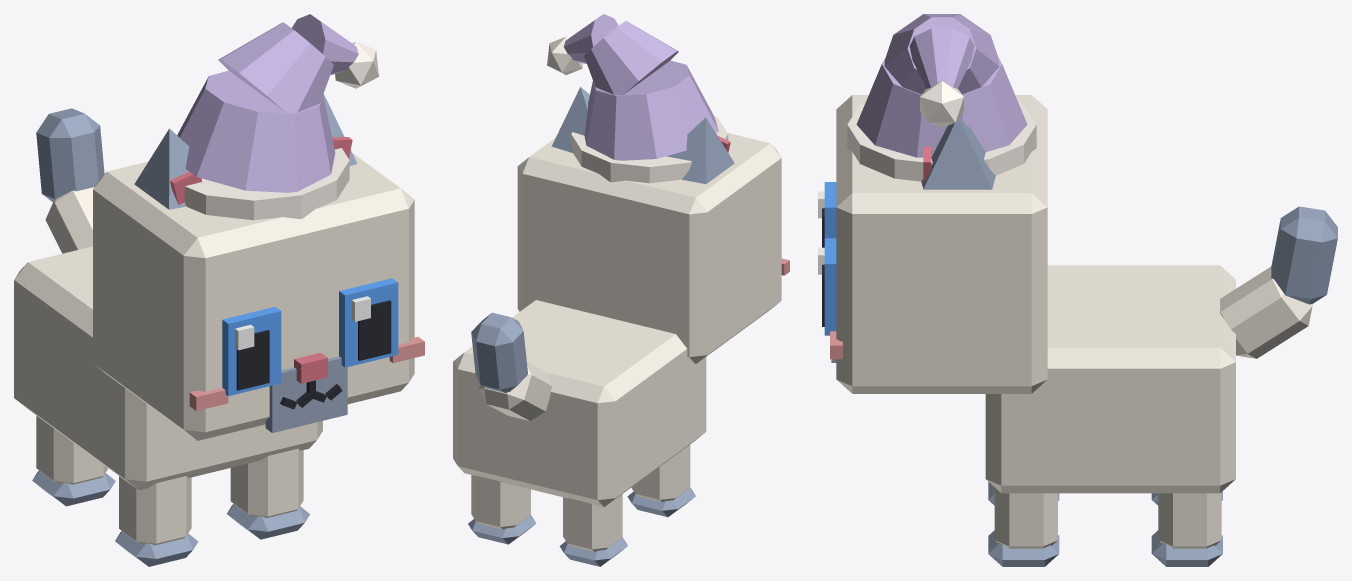
The model's file is CatCafe_Cat_Ragdoll.glb.
3 views of the same model, side by side, from view 1: azimuth 30°, elevation 25°; view 2: azimuth 150°, elevation 25°; view 3: azimuth 270°, elevation 25° (orthographic). The views are drawn at different scales.
Parts seen in each view (by area): view 1: CatCafe_Cat_Ragdoll_Head, CatCafe_Cat_Ragdoll_Prop, CatCafe_Cat_Ragdoll_Body, CatCafe_Cat_Ragdoll_Tail, CatCafe_Cat_Ragdoll_LegF2, CatCafe_Cat_Ragdoll_LegF1, CatCafe_Cat_Ragdoll_Eye1, CatCafe_Cat_Ragdoll_Eye2, CatCafe_Cat_Ragdoll_LegB2, CatCafe_Cat_Ragdoll_EarR, CatCafe_Cat_Ragdoll_EarL; view 2: CatCafe_Cat_Ragdoll_Head, CatCafe_Cat_Ragdoll_Body, CatCafe_Cat_Ragdoll_Prop, CatCafe_Cat_Ragdoll_Tail, CatCafe_Cat_Ragdoll_LegB2, CatCafe_Cat_Ragdoll_LegB1, CatCafe_Cat_Ragdoll_LegF2, CatCafe_Cat_Ragdoll_EarR, CatCafe_Cat_Ragdoll_EarL; view 3: CatCafe_Cat_Ragdoll_Body, CatCafe_Cat_Ragdoll_Head, CatCafe_Cat_Ragdoll_Prop, CatCafe_Cat_Ragdoll_Tail, CatCafe_Cat_Ragdoll_LegF1, CatCafe_Cat_Ragdoll_LegB1, CatCafe_Cat_Ragdoll_EarL, CatCafe_Cat_Ragdoll_Eye1, CatCafe_Cat_Ragdoll_Eye2.
Boxes of the visible parts, bbox=[...] form: CatCafe_Cat_Ragdoll_Head: bbox=[93, 153, 424, 440]; CatCafe_Cat_Ragdoll_Prop: bbox=[177, 14, 378, 220]; CatCafe_Cat_Ragdoll_Body: bbox=[14, 246, 322, 490]; CatCafe_Cat_Ragdoll_Tail: bbox=[36, 108, 104, 253]; CatCafe_Cat_Ragdoll_LegF2: bbox=[115, 476, 198, 566]; CatCafe_Cat_Ragdoll_LegF1: bbox=[227, 448, 310, 539]; CatCafe_Cat_Ragdoll_Eye1: bbox=[339, 278, 398, 367]; CatCafe_Cat_Ragdoll_Eye2: bbox=[222, 306, 281, 396]; CatCafe_Cat_Ragdoll_LegB2: bbox=[32, 415, 115, 506]; CatCafe_Cat_Ragdoll_EarR: bbox=[134, 128, 201, 209]; CatCafe_Cat_Ragdoll_EarL: bbox=[323, 93, 357, 165]; CatCafe_Cat_Ragdoll_Head: bbox=[517, 133, 789, 364]; CatCafe_Cat_Ragdoll_Body: bbox=[453, 300, 706, 506]; CatCafe_Cat_Ragdoll_Prop: bbox=[547, 14, 728, 183]; CatCafe_Cat_Ragdoll_Tail: bbox=[471, 312, 552, 420]; CatCafe_Cat_Ragdoll_LegB2: bbox=[559, 494, 627, 566]; CatCafe_Cat_Ragdoll_LegB1: bbox=[468, 475, 536, 544]; CatCafe_Cat_Ragdoll_LegF2: bbox=[627, 444, 695, 517]; CatCafe_Cat_Ragdoll_EarR: bbox=[666, 117, 734, 183]; CatCafe_Cat_Ragdoll_EarL: bbox=[551, 87, 589, 152]; CatCafe_Cat_Ragdoll_Body: bbox=[985, 265, 1235, 493]; CatCafe_Cat_Ragdoll_Head: bbox=[830, 95, 1047, 393]; CatCafe_Cat_Ragdoll_Prop: bbox=[847, 14, 1036, 181]; CatCafe_Cat_Ragdoll_Tail: bbox=[1220, 206, 1337, 358]; CatCafe_Cat_Ragdoll_LegF1: bbox=[988, 487, 1059, 566]; CatCafe_Cat_Ragdoll_LegB1: bbox=[1151, 492, 1222, 566]; CatCafe_Cat_Ragdoll_EarL: bbox=[921, 118, 995, 189]; CatCafe_Cat_Ragdoll_Eye1: bbox=[818, 238, 836, 335]; CatCafe_Cat_Ragdoll_Eye2: bbox=[818, 182, 836, 247].
Bounding box in the file's own units: 1.23 × 2.67 × 2.37.
1 material, 1 textured.
